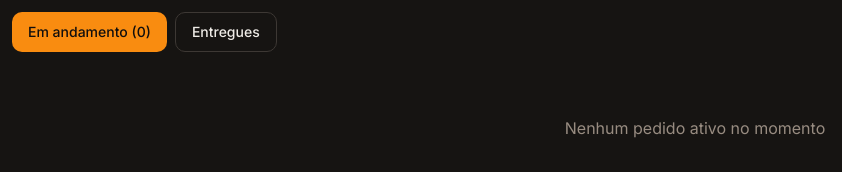
Scenario: delivered orders view › shows retry instead of a misleading empty history after a failure
Later steps or results of the test are not shown.
Click the button "Entregues": (226, 32) 175,12 -> 277,52
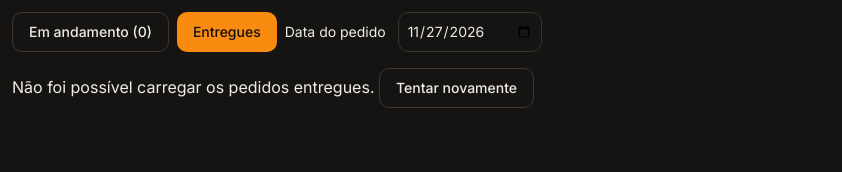
Expected: the message "Não foi possível carregar os pedidos entregues. Tentar novamente" is shown, 12,68 -> 534,108
